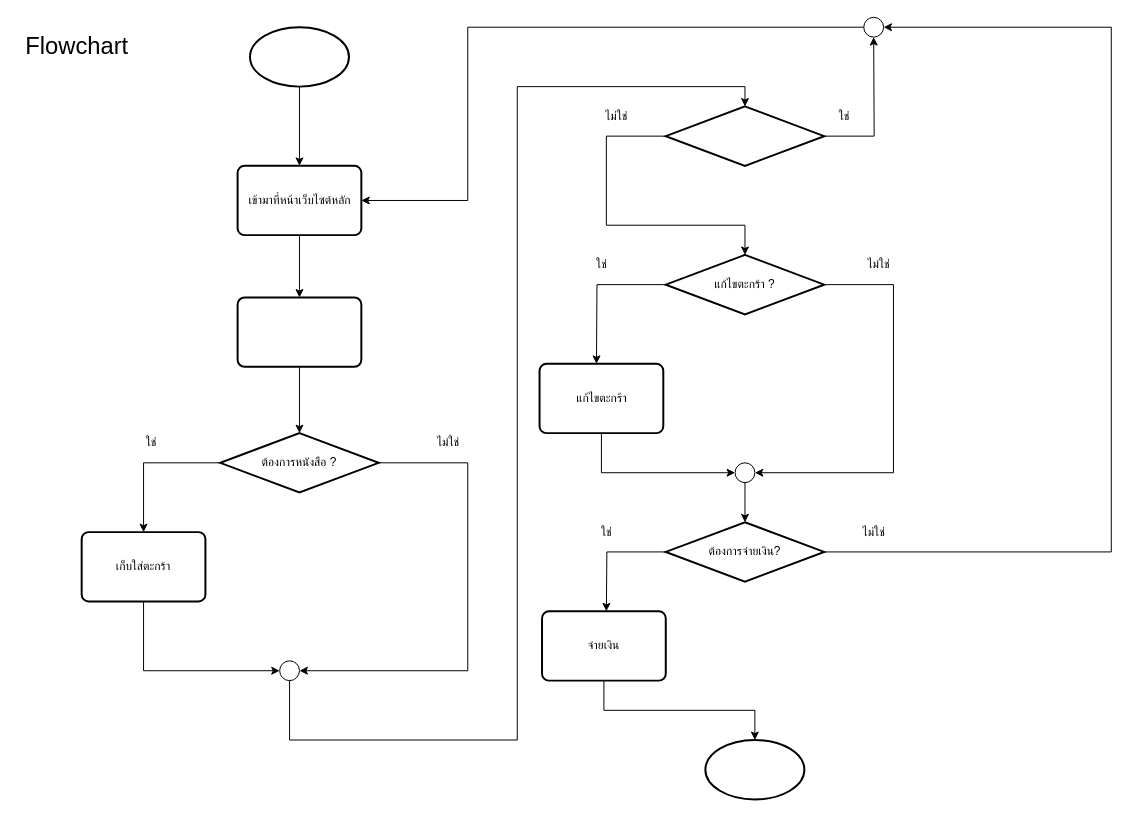
Image size: 1137x818. Some labels were removed from this diagram. Each missing label, with the centre of its shape:
"Start" goes at (298,56).
"Stop" goes at (754,769).
"เลือกหนังสือ" goes at (299,331).
"เลือกหนังสือเพิ่ม ?" goes at (744,135).
